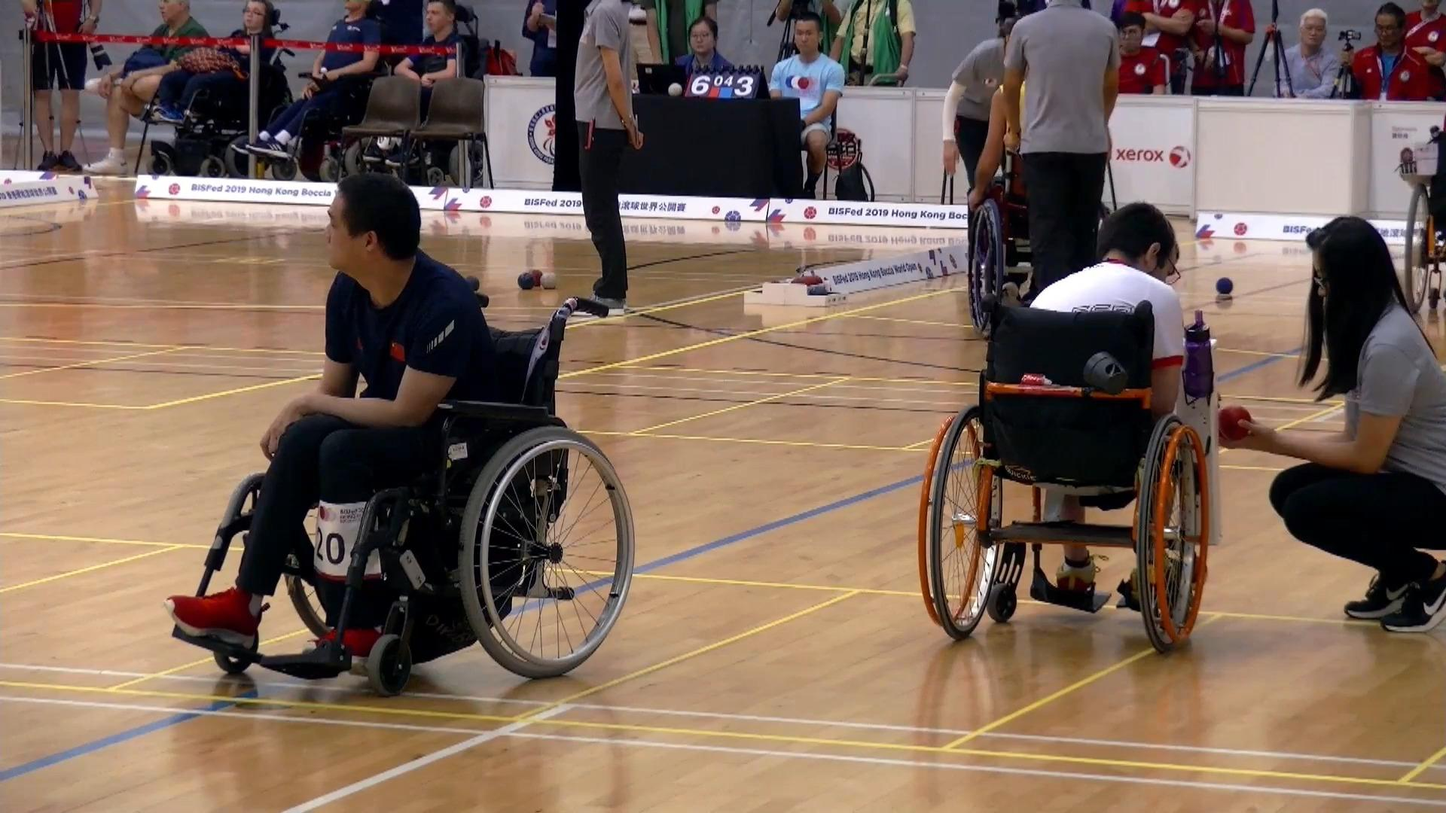blue_ball: (1215, 277, 1235, 295), (517, 272, 535, 291)
white_ball: (541, 272, 558, 291)
